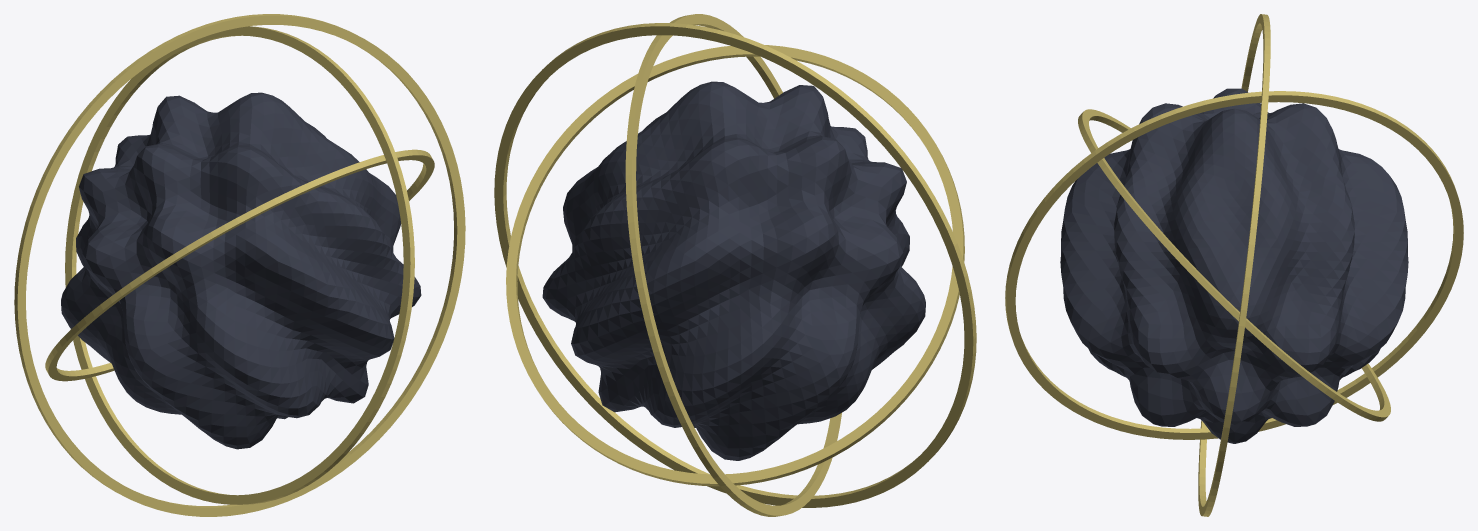
Rendered from gpu-artifact.glb.
3 views of the same model, side by side, from view 1: azimuth 30°, elevation 25°; view 2: azimuth 150°, elevation 25°; view 3: azimuth 270°, elevation 25° (orthographic). The views are drawn at different scales.
Parts seen in each view (by area): view 1: digital-asset-forge_obsidian_core, digital-asset-forge_orbital_ring_2, digital-asset-forge_orbital_ring_1, digital-asset-forge_orbital_ring_0; view 2: digital-asset-forge_obsidian_core, digital-asset-forge_orbital_ring_2, digital-asset-forge_orbital_ring_0, digital-asset-forge_orbital_ring_1; view 3: digital-asset-forge_obsidian_core, digital-asset-forge_orbital_ring_1, digital-asset-forge_orbital_ring_2, digital-asset-forge_orbital_ring_0.
Part boxes in pixels (x1,y1,x2,y2): digital-asset-forge_obsidian_core: (61,92,421,449); digital-asset-forge_orbital_ring_2: (14,14,465,516); digital-asset-forge_orbital_ring_1: (65,26,414,504); digital-asset-forge_orbital_ring_0: (45,149,434,381); digital-asset-forge_obsidian_core: (542,81,925,460); digital-asset-forge_orbital_ring_2: (494,23,976,507); digital-asset-forge_orbital_ring_0: (506,45,964,486); digital-asset-forge_orbital_ring_1: (625,14,841,516); digital-asset-forge_obsidian_core: (1060,88,1408,443); digital-asset-forge_orbital_ring_1: (1005,91,1463,439); digital-asset-forge_orbital_ring_2: (1198,14,1270,516); digital-asset-forge_orbital_ring_0: (1078,109,1390,421).
Size of the model in its own units: 3.24 by 3.22 by 2.94.
